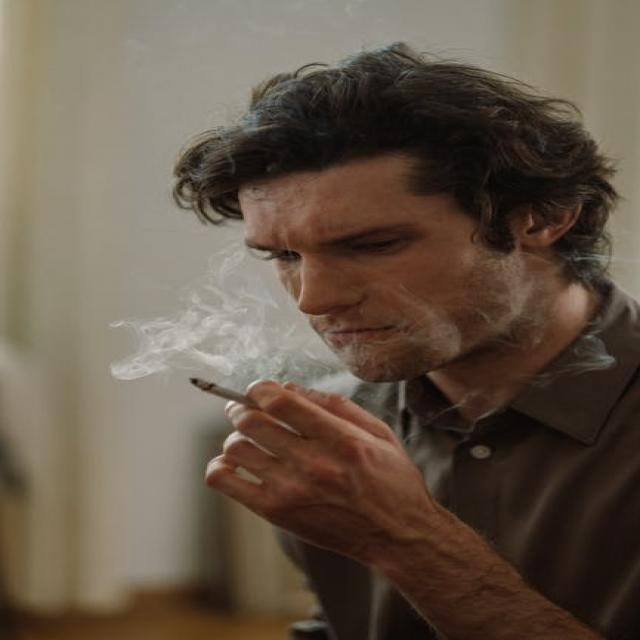smoke: (188, 371, 270, 415)
